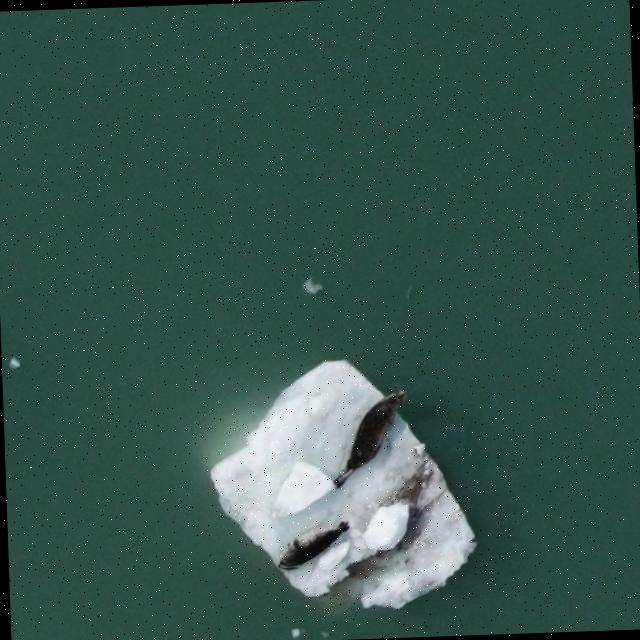seal: (334, 389, 407, 485), (279, 521, 349, 569)
